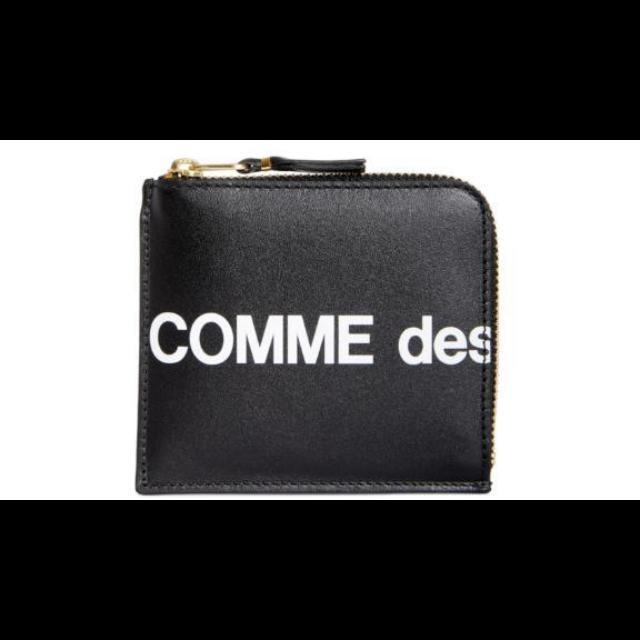wallet: (130, 166, 496, 497)
